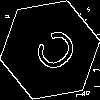C: (25, 25, 81, 82)
